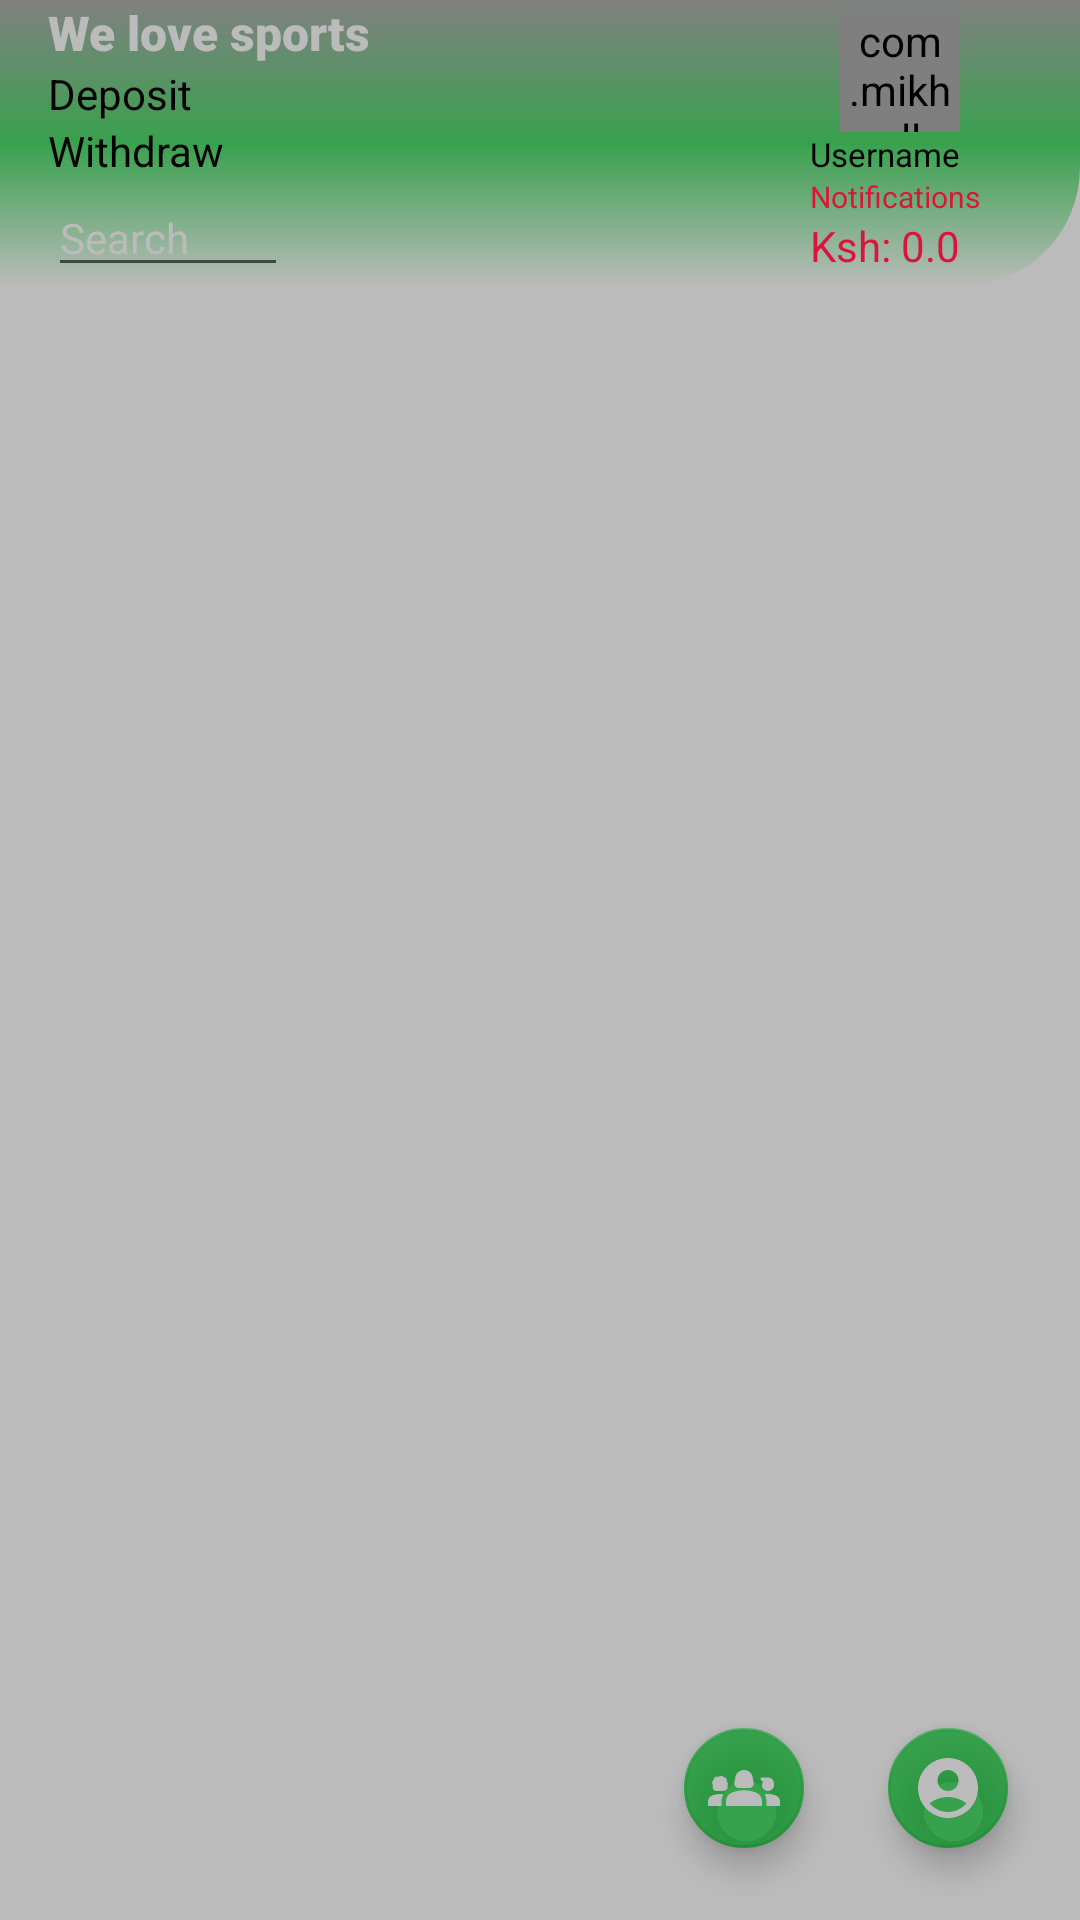

Screen size 1080*1920. Icon name, then its center in pixels as [x,y]:
account circle: [948,1793]
groups: [744,1793]
